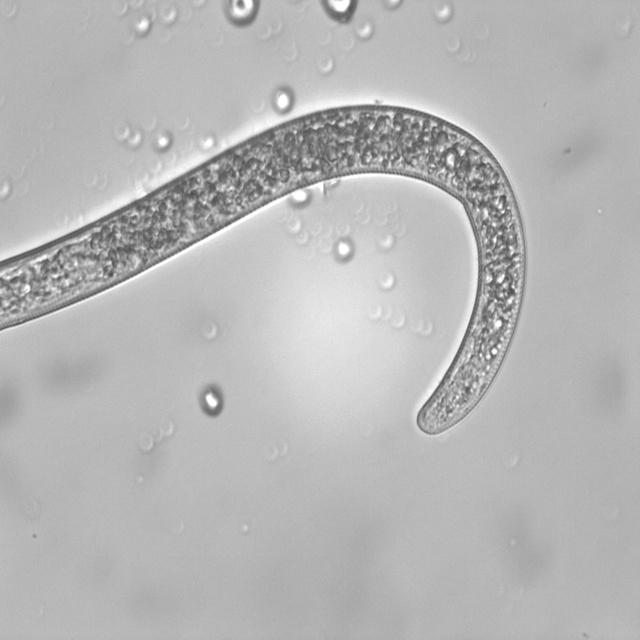Helicotylenchus: (0, 98, 529, 443)
